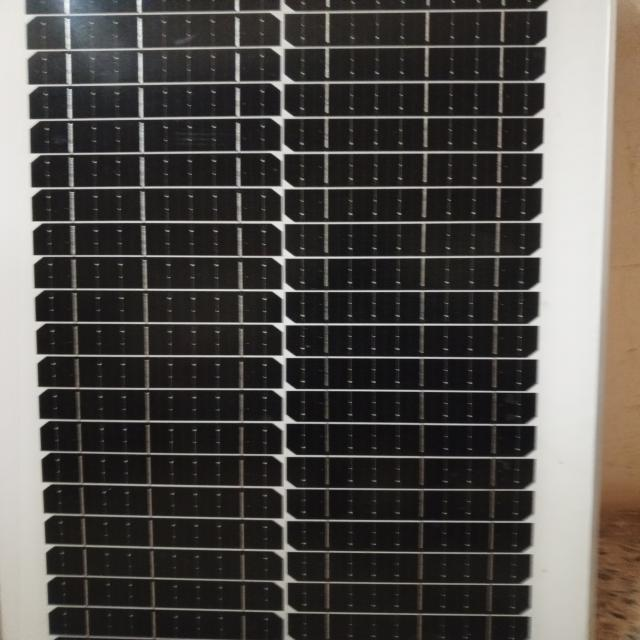Clean: (9, 0, 552, 640)
